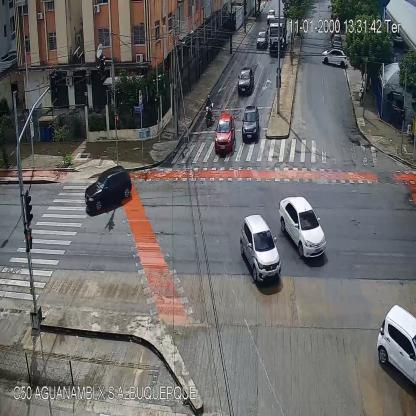car: (377, 304, 415, 390), (240, 214, 283, 285), (278, 195, 325, 259), (85, 166, 132, 210), (215, 113, 235, 155), (241, 104, 260, 140), (322, 48, 348, 71), (238, 68, 254, 92), (257, 31, 268, 48), (332, 35, 342, 49), (267, 9, 276, 21)
motorbike: (205, 93, 213, 129)
person: (360, 81, 364, 106)
truck: (268, 20, 286, 55)
